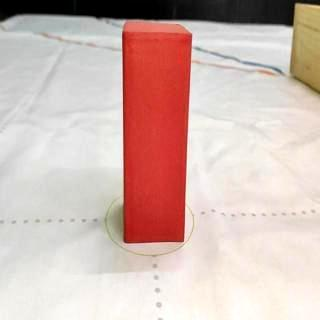redbox: (122, 19, 194, 243)
